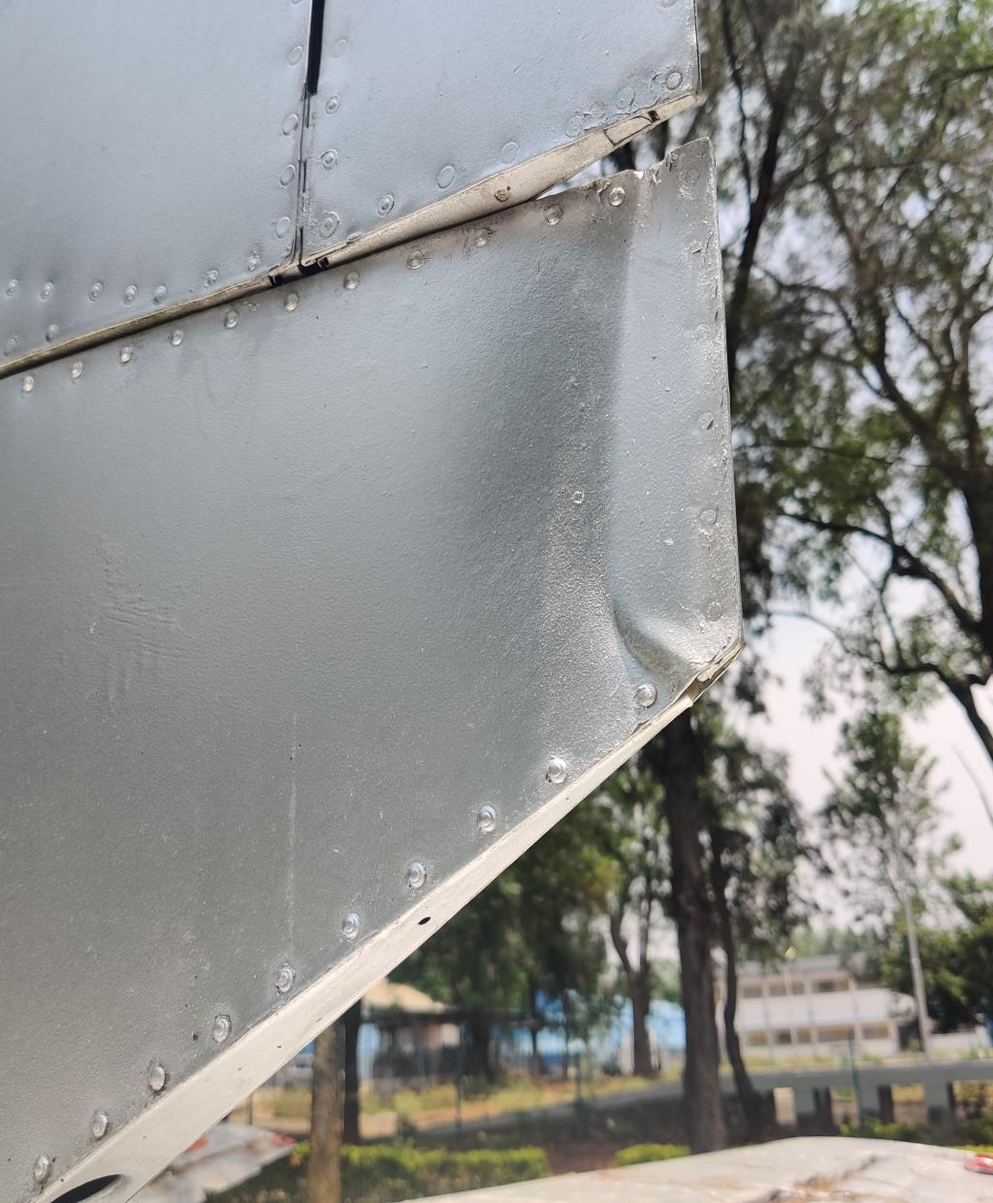dent: (579, 553, 742, 728)
